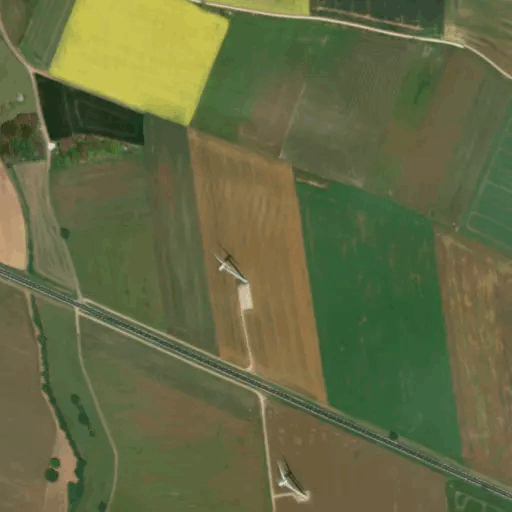wt: (203, 239, 255, 294), (269, 455, 314, 503)
